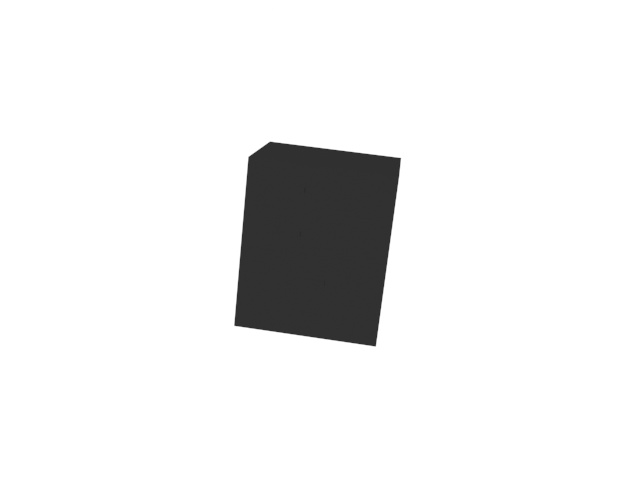file_cabinet: (233, 137, 408, 352)
